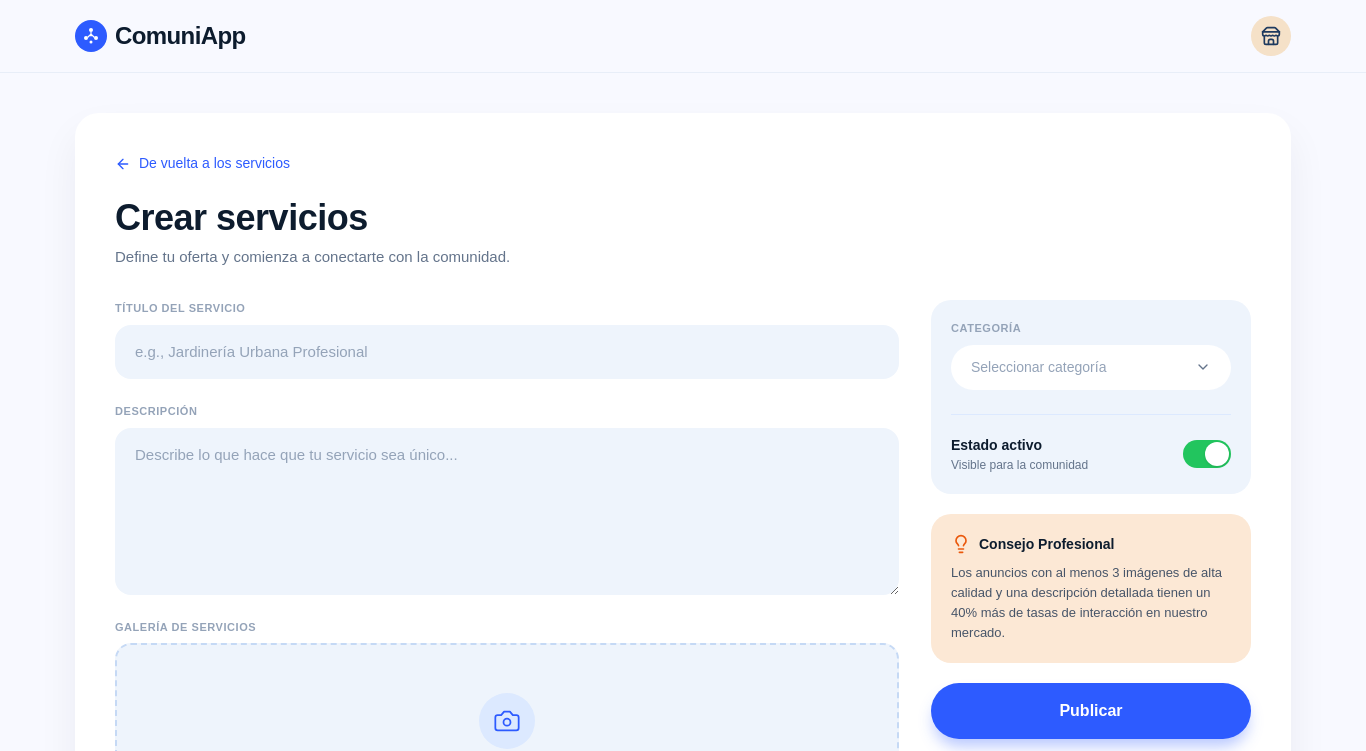
Test: EmprendedorCrearServicios › guarda borrador con mensaje de estado
Type "Jardinería premium" into the field labelled "Título del servicio".
click(507, 352); type("Jardinería premium")  # box [115,324,899,379]
(page scrolled)
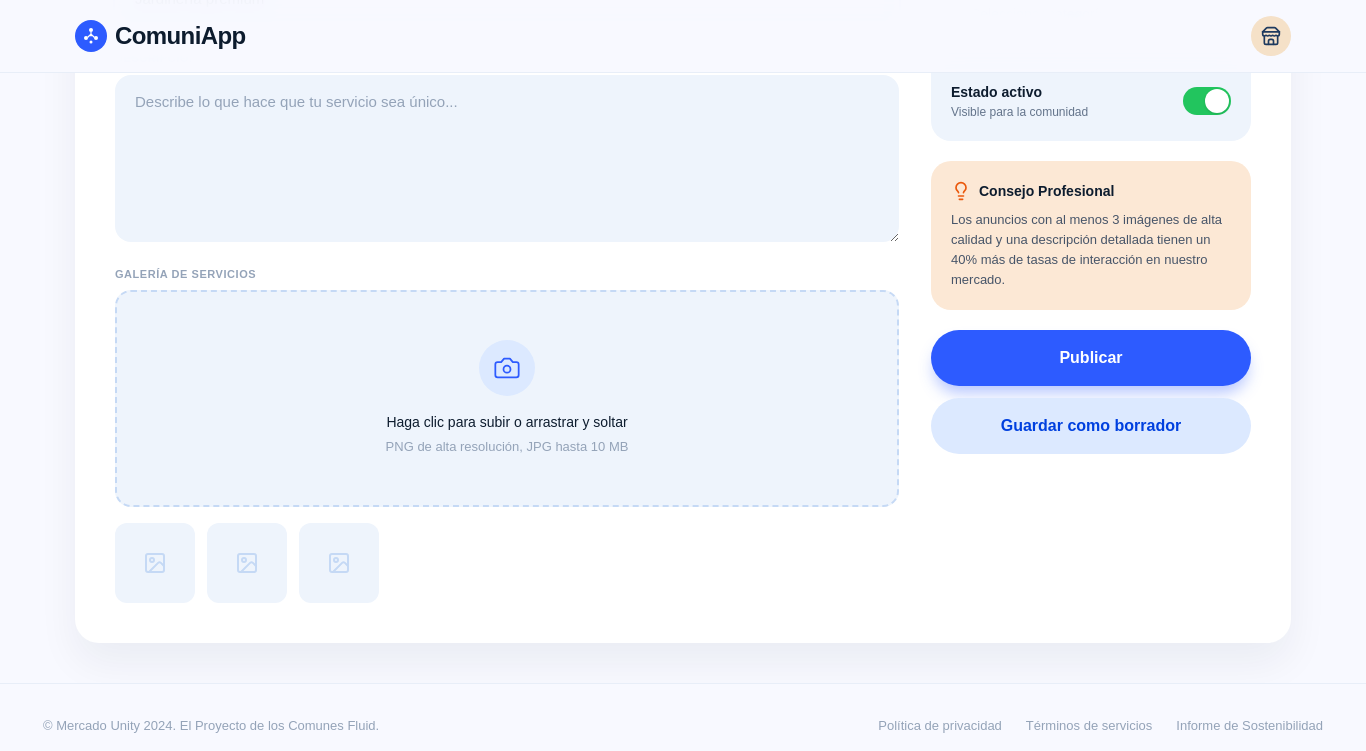
Click the button "Guardar como borrador".
click(1091, 426)  # box [931,398,1251,454]
(page scrolled)
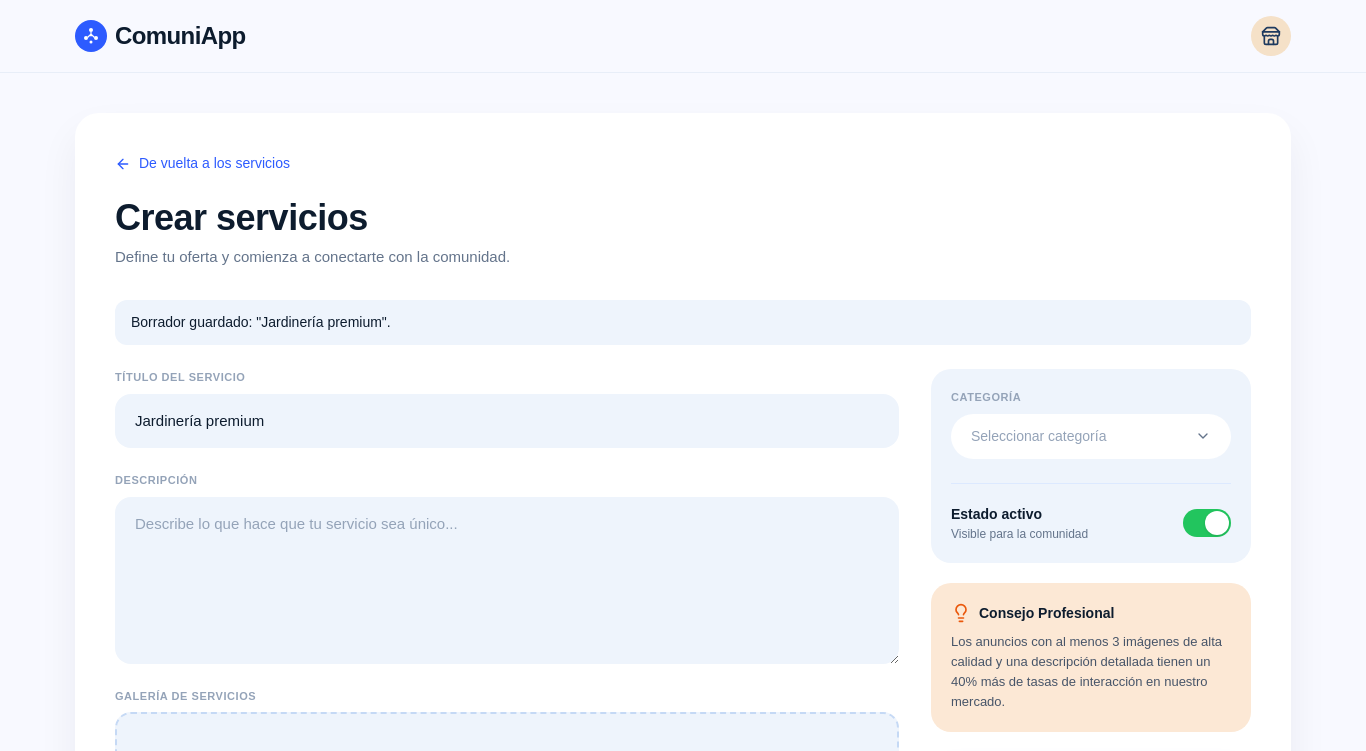
Check: the text "Borrador guardado: \"Jardinería premium\"." is shown, box [115,300,1251,345]
